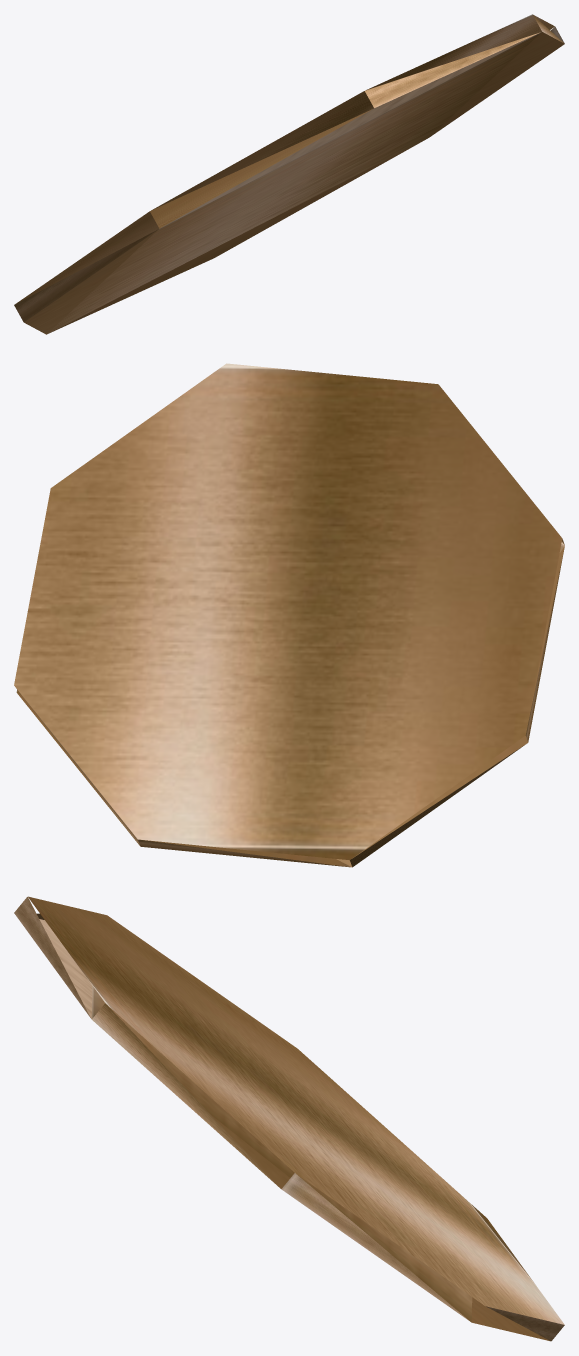
File: cymbal2.gltf
The picture shows the model from 3 angles, top to bottom: view 1: azimuth 30°, elevation 25°; view 2: azimuth 150°, elevation 25°; view 3: azimuth 270°, elevation 25°; orthographic projection. The views are drawn at different scales.
Visible parts, largest first — view 1: Cymbal2; view 2: Cymbal2; view 3: Cymbal2.
Boxes of the visible parts, x1,y1,x2,y2 form: Cymbal2: (14,14,564,334); Cymbal2: (14,363,564,867); Cymbal2: (14,896,564,1341).
Size of the model in its own units: 3.03 by 1.97 by 2.48.
Materials: 1 (1 with a texture image).
